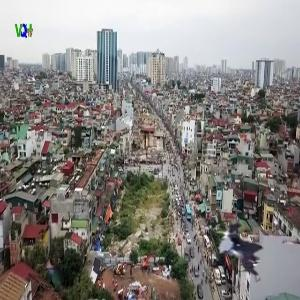drone: (211, 210, 291, 290)
